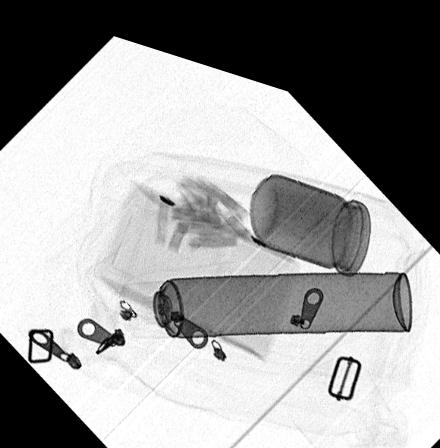Sprayer: (120, 246, 413, 328)
